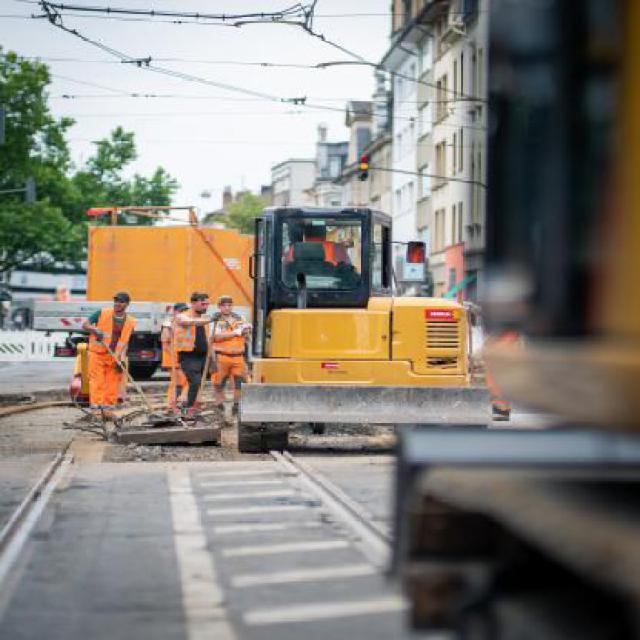head: (188, 291, 211, 309)
person: (75, 289, 143, 423), (205, 294, 265, 406), (168, 288, 214, 412)
vest: (88, 306, 140, 362), (211, 315, 257, 363), (175, 313, 220, 359)
